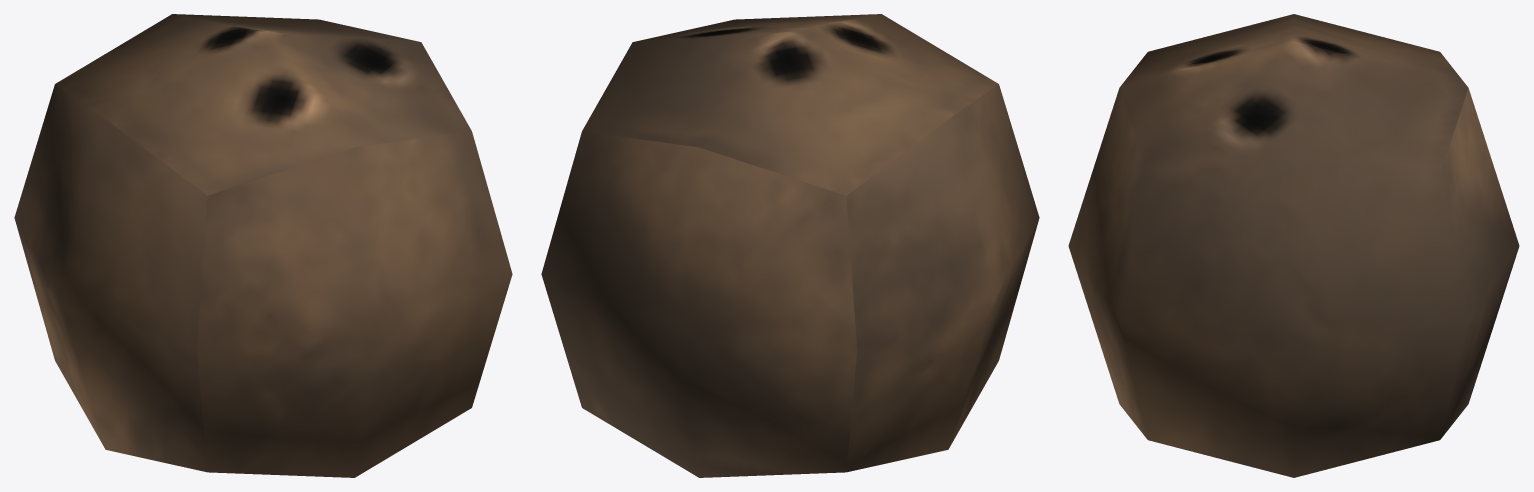
The model's file is Coconut.fbx.
3 views of the same model, side by side, from view 1: azimuth 30°, elevation 25°; view 2: azimuth 150°, elevation 25°; view 3: azimuth 270°, elevation 25° (orthographic). The views are drawn at different scales.
Parts seen in each view (by area): view 1: Coconut; view 2: Coconut; view 3: Coconut.
Boxes of the visible parts, x1,y1,x2,y2 form: Coconut: (14, 14, 512, 477); Coconut: (541, 14, 1039, 477); Coconut: (1068, 14, 1519, 477).
Size of the model in its own units: 98.78 by 98.78 by 98.78.
